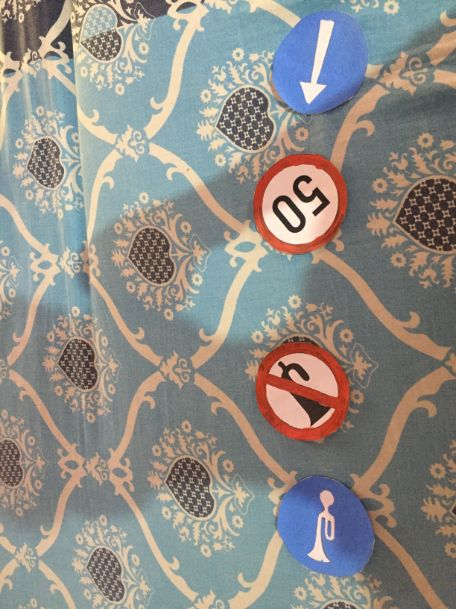blow-horn: (255, 339, 359, 443), (275, 477, 379, 581)
keep-left: (269, 5, 382, 118)
speed-50: (250, 152, 352, 254)
